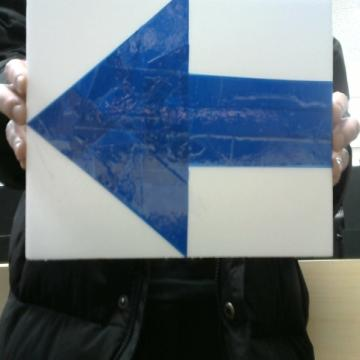blue_left: (29, 0, 332, 254)
